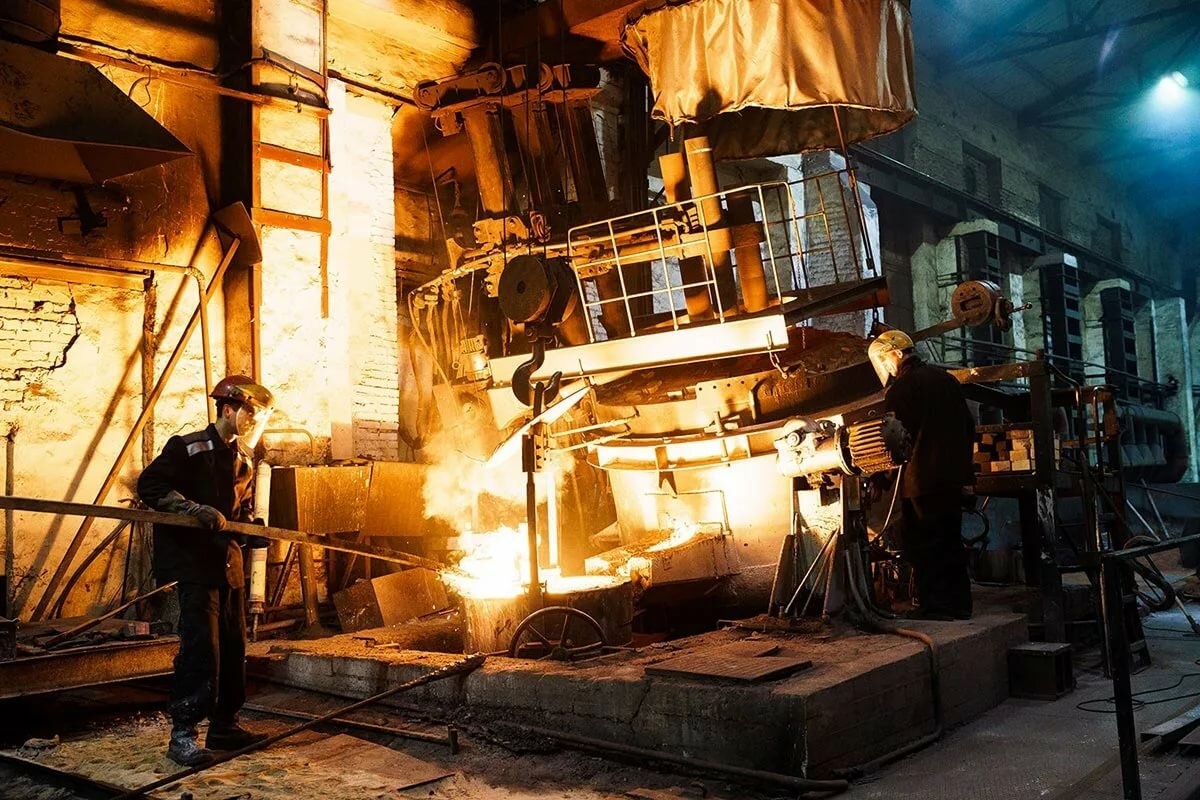person: (139, 374, 274, 765), (866, 329, 977, 625)
